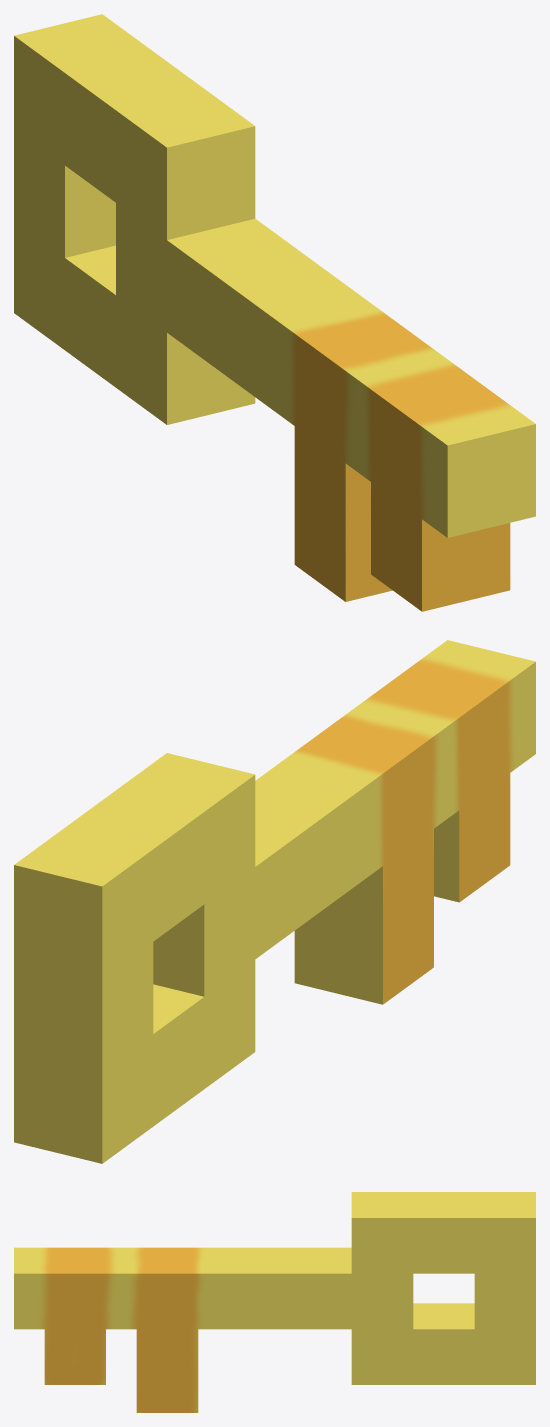
File: basedKey.fbx
The picture shows the model from 3 angles, top to bottom: view 1: azimuth 30°, elevation 25°; view 2: azimuth 150°, elevation 25°; view 3: azimuth 270°, elevation 25°; orthographic projection. The views are drawn at different scales.
Visible parts, largest first — view 1: Cube; view 2: Cube; view 3: Cube.
Boxes of the visible parts, <box> form: Cube: <box>14,14,535,611</box>; Cube: <box>14,640,535,1163</box>; Cube: <box>14,1192,535,1412</box>.
Size of the model in its own units: 200 by 700 by 1700.
